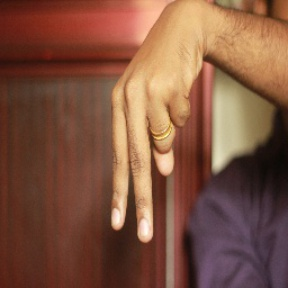Y: (105, 51, 200, 244)
